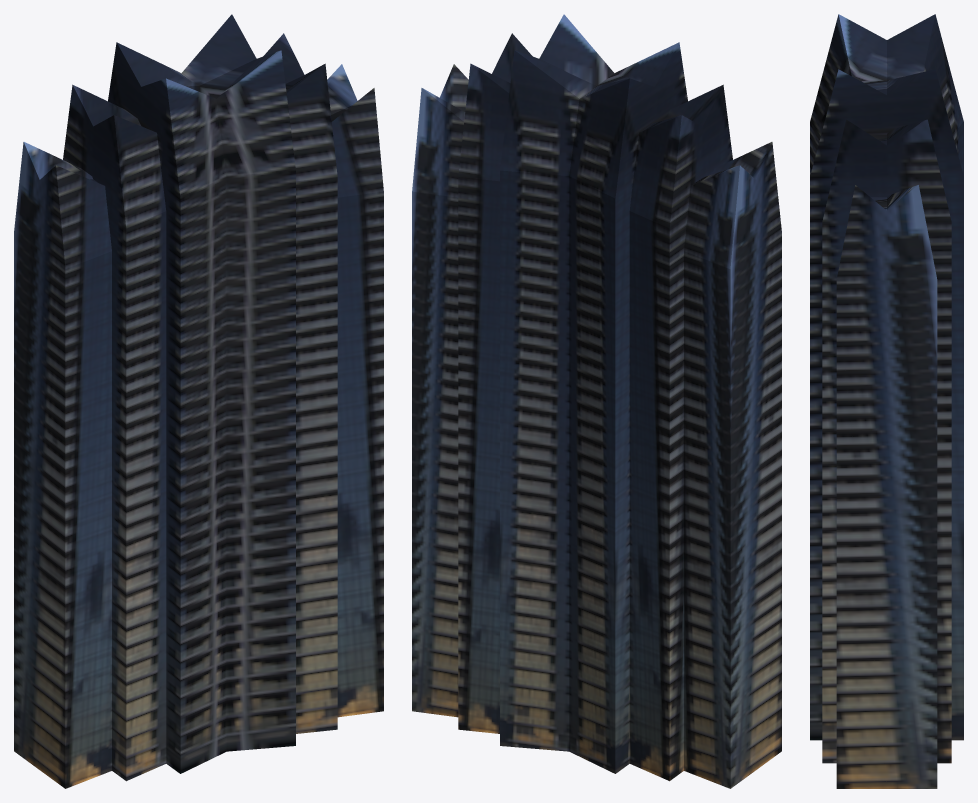
File: sydney.fbx
The picture shows the model from 3 angles, left to right: view 1: azimuth 30°, elevation 25°; view 2: azimuth 150°, elevation 25°; view 3: azimuth 270°, elevation 25°; orthographic projection. The views are drawn at different scales.
Visible parts, largest first — view 1: sydney_low; view 2: sydney_low; view 3: sydney_low.
Boxes of the visible parts, x1,y1,x2,y2 form: sydney_low: (14,14,383,788); sydney_low: (412,14,781,788); sydney_low: (810,14,963,788).
Bounding box in the file's own units: 406 × 835 × 173.
